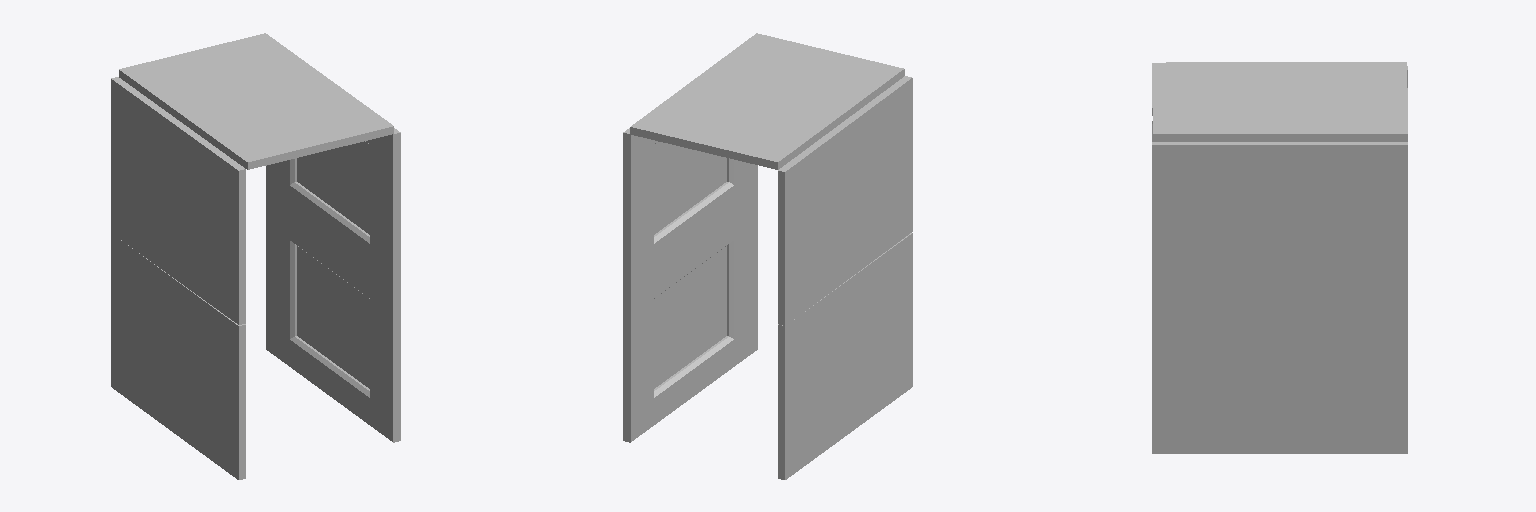
The model's file is worldP2.obj.
3 views of the same model, side by side, from view 1: azimuth 30°, elevation 25°; view 2: azimuth 150°, elevation 25°; view 3: azimuth 270°, elevation 25° (orthographic).
Visible parts, largest first — view 1: Plane.002, Plane.003, Plane.004, Plane.008, Plane.005; view 2: Plane.002, Plane.003, Plane.004, Plane.008, Plane.005; view 3: Plane.005, Plane.004, Plane.008.
Part boxes in pixels (bbox=[...]): Plane.002: bbox=[111, 77, 245, 324]; Plane.003: bbox=[111, 233, 245, 479]; Plane.004: bbox=[266, 196, 400, 442]; Plane.008: bbox=[119, 33, 393, 169]; Plane.005: bbox=[266, 128, 400, 288]; Plane.002: bbox=[778, 76, 912, 325]; Plane.003: bbox=[778, 233, 912, 479]; Plane.004: bbox=[623, 196, 757, 442]; Plane.008: bbox=[630, 33, 904, 169]; Plane.005: bbox=[623, 128, 757, 288]; Plane.005: bbox=[1152, 142, 1407, 298]; Plane.004: bbox=[1152, 299, 1407, 453]; Plane.008: bbox=[1152, 62, 1407, 141].
Bounding box in the file's own units: 22 × 41 × 30.1.